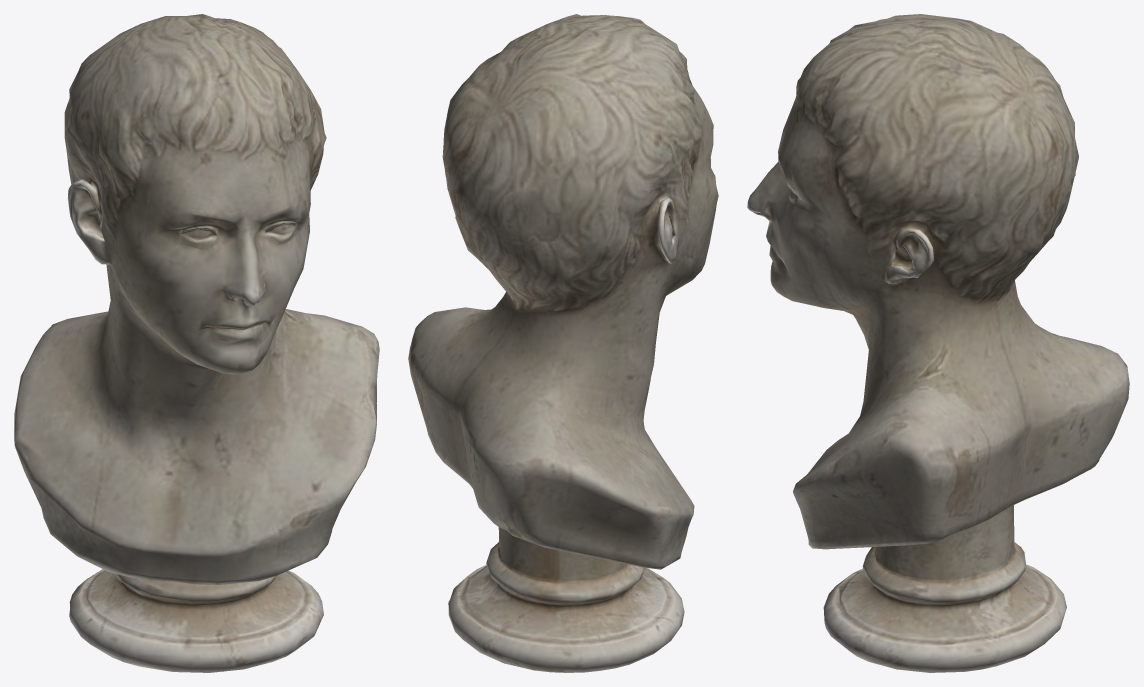
Rendered from x_bust.glb.
3 views of the same model, side by side, from view 1: azimuth 30°, elevation 25°; view 2: azimuth 150°, elevation 25°; view 3: azimuth 270°, elevation 25° (orthographic). The views are drawn at different scales.
Bounding box in the file's own units: 0.2717 × 0.5149 × 0.2992.
Materials: 1 (1 with a texture image).
